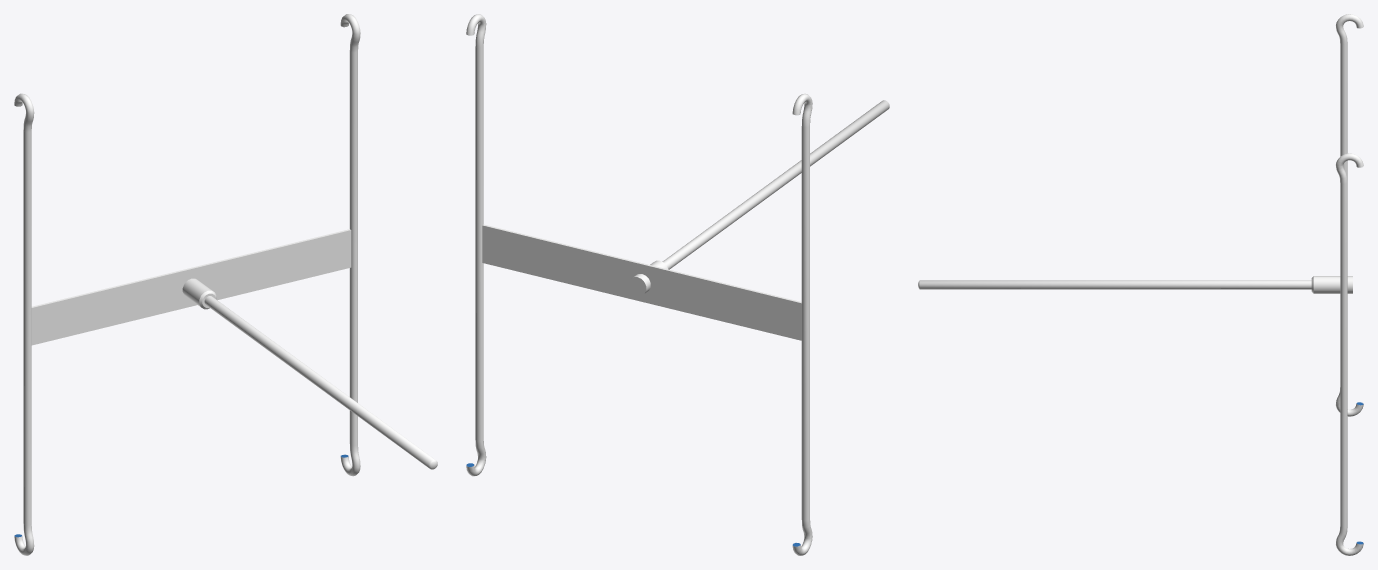
Rendered from Ruota_A.fbx.
3 views of the same model, side by side, from view 1: azimuth 30°, elevation 25°; view 2: azimuth 150°, elevation 25°; view 3: azimuth 270°, elevation 25° (orthographic). The views are drawn at different scales.
Visible parts, largest first — view 1: Plane.005; view 2: Plane.005; view 3: Plane.005.
Boxes of the visible parts, left/top/right/bottom form: Plane.005: left=14, top=14, right=437, bottom=555; Plane.005: left=466, top=14, right=889, bottom=555; Plane.005: left=918, top=14, right=1363, bottom=555.
Bounding box in the file's own units: 1751 × 2308 × 2316.
1 material, 1 textured.
